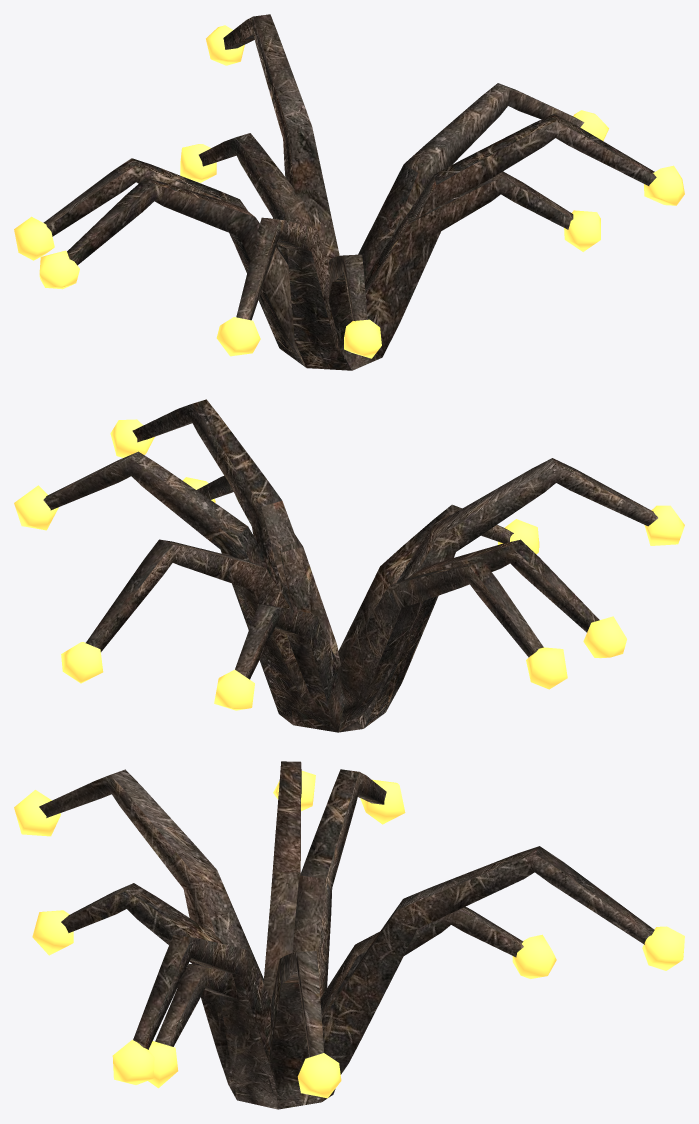
The model's file is thorn_bush.glb.
The picture shows the model from 3 angles, top to bottom: view 1: azimuth 30°, elevation 25°; view 2: azimuth 150°, elevation 25°; view 3: azimuth 270°, elevation 25°; orthographic projection. The views are drawn at different scales.
Visible parts, largest first — view 1: thorn, thorn_e; view 2: thorn, thorn_e; view 3: thorn, thorn_e.
Boxes of the visible parts, x1,y1,x2,y2 form: thorn: (43,14,656,370); thorn_e: (14,25,684,358); thorn: (43,399,657,732); thorn_e: (14,419,684,710); thorn: (39,761,654,1109); thorn_e: (14,770,684,1098).
Size of the model in its own units: 2.93 by 1.16 by 2.69.
Materials: 2 (1 with a texture image).
